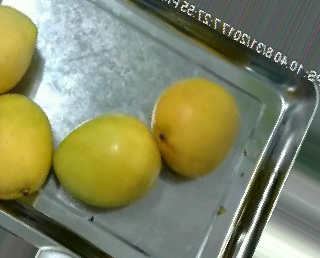Mango: (51, 113, 158, 211), (151, 75, 238, 176), (0, 94, 52, 199), (0, 3, 35, 94)
